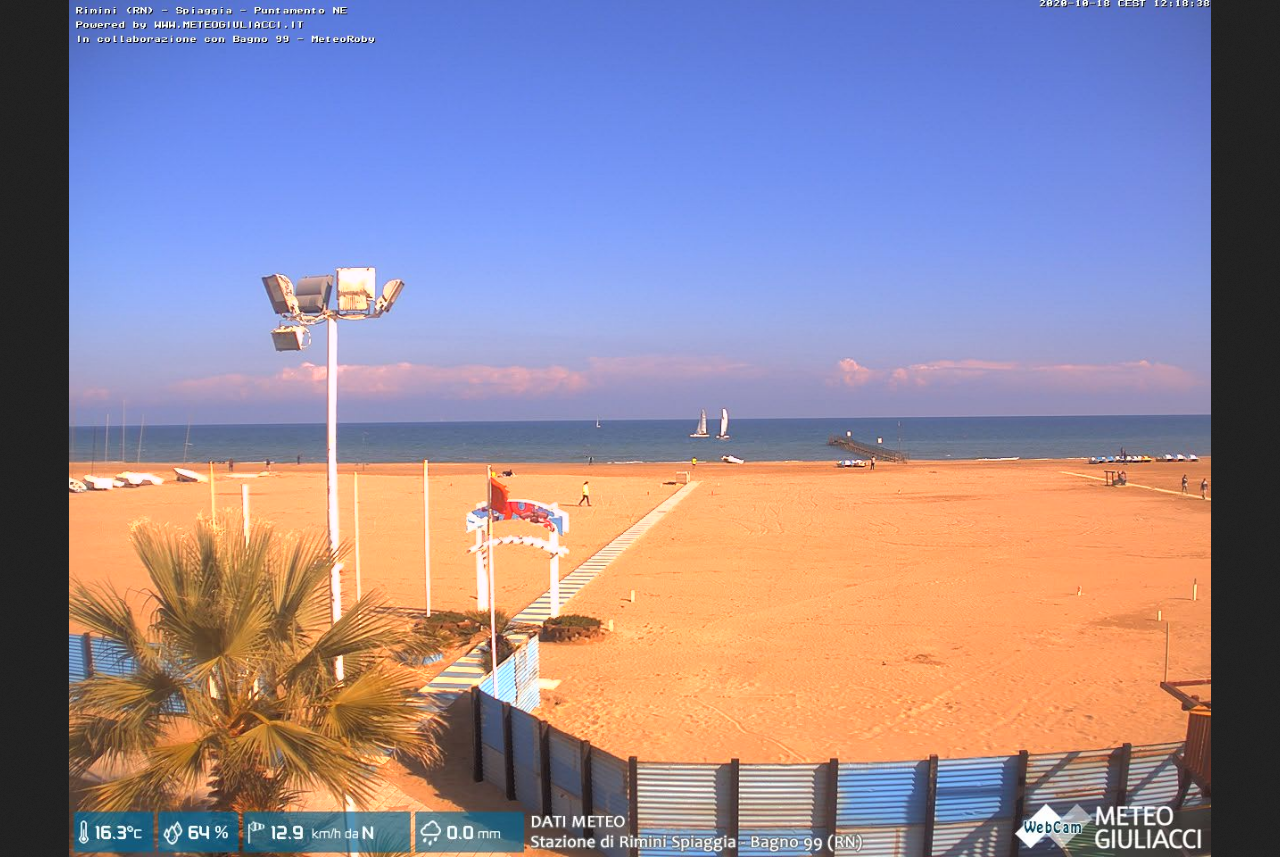yes: (490, 476, 513, 520)
